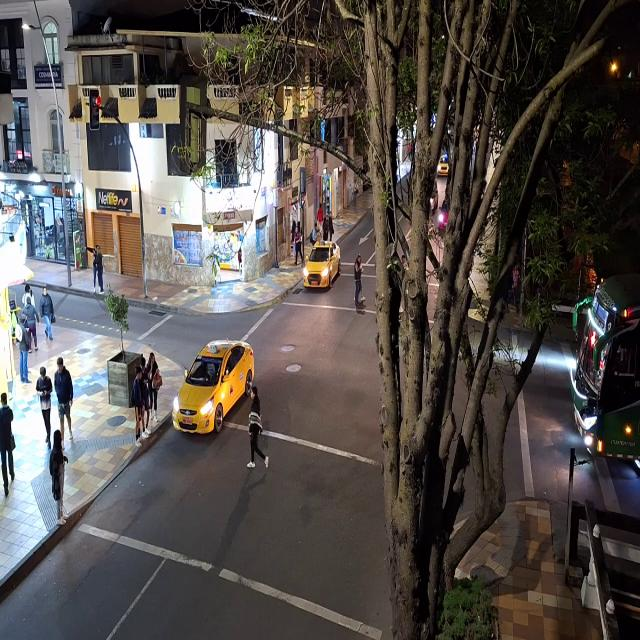BUS: (577, 278, 640, 469)
SED: (178, 342, 252, 434), (305, 242, 338, 288)
